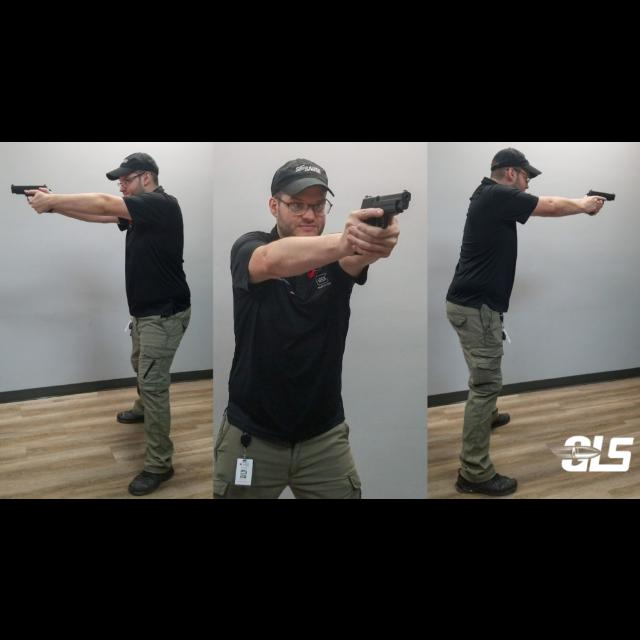handgun: (358, 187, 414, 230), (12, 180, 52, 200), (584, 187, 618, 205)
